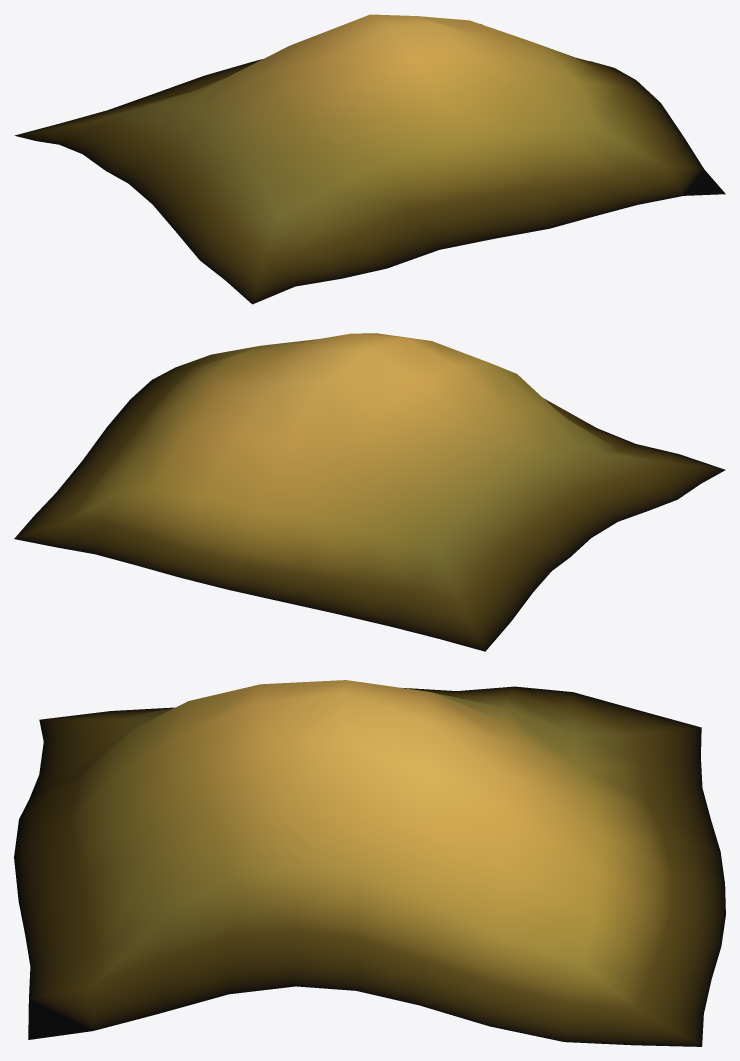
The model's file is SmallSandbank_1_2.5A.fbx.
3 renders of one model, top to bottom at view 1: azimuth 30°, elevation 25°; view 2: azimuth 150°, elevation 25°; view 3: azimuth 270°, elevation 25°, orthographic. The views are drawn at different scales.
Visible parts, largest first — view 1: pPlane1; view 2: pPlane1; view 3: pPlane1.
Part boxes in pixels (bbox=[...]): pPlane1: bbox=[14, 14, 725, 304]; pPlane1: bbox=[14, 333, 725, 651]; pPlane1: bbox=[14, 680, 725, 1046].
Bounding box in the file's own units: 505 × 148 × 468.
